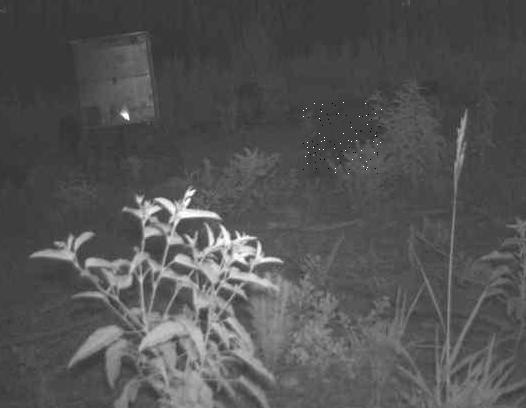Hog: (304, 101, 383, 176)
